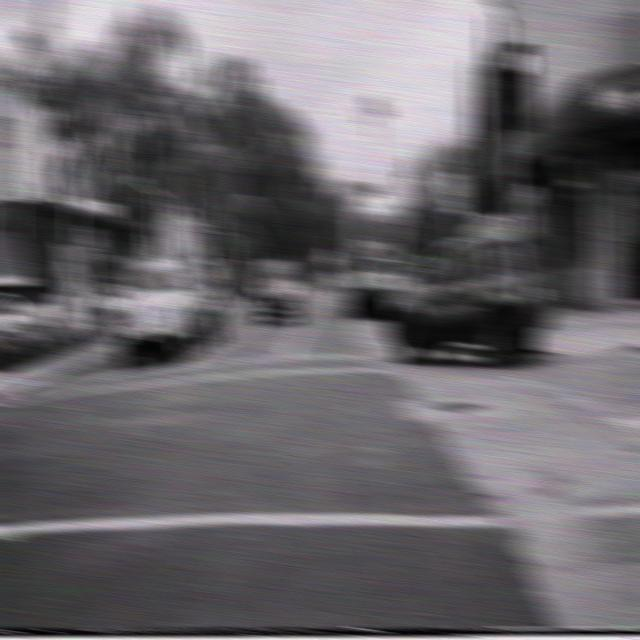speedLimit25: (438, 170, 468, 215)
